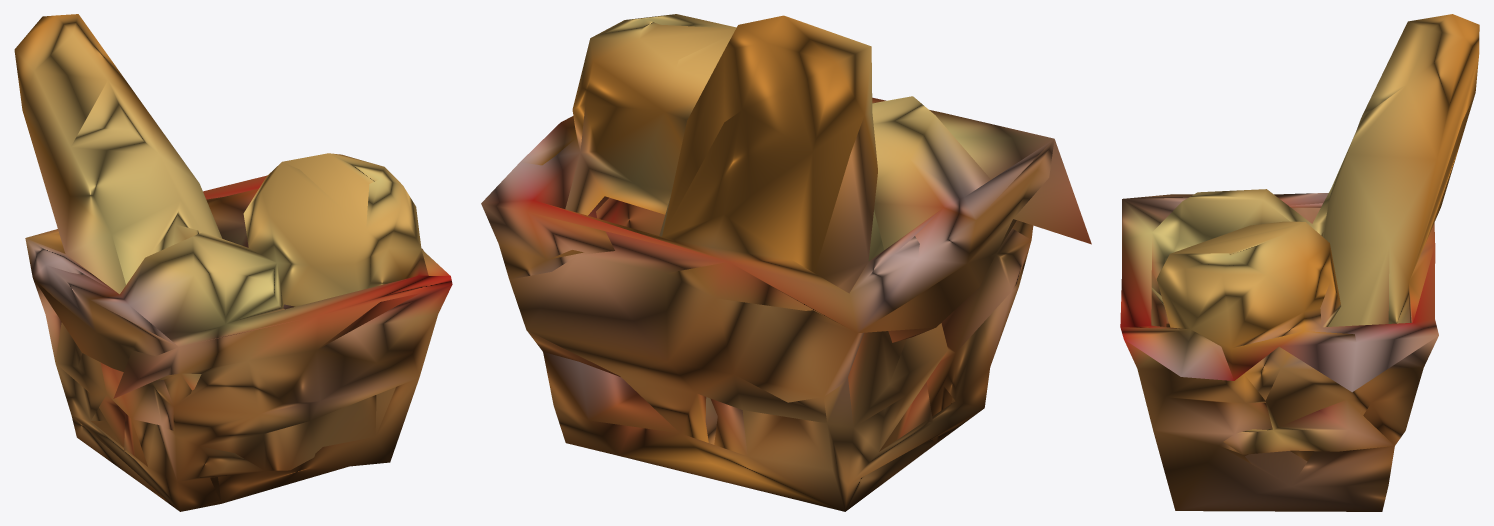
The model's file is gen3d-bread-basket-lod1.glb.
3 views of the same model, side by side, from view 1: azimuth 30°, elevation 25°; view 2: azimuth 150°, elevation 25°; view 3: azimuth 270°, elevation 25° (orthographic). The views are drawn at different scales.
Visible parts, largest first — view 1: part_0; view 2: part_0; view 3: part_0.
Part boxes in pixels (box(x1,y1,x2,y2)): part_0: box(14, 14, 452, 511); part_0: box(481, 14, 1091, 511); part_0: box(1120, 14, 1479, 511).
Bounding box in the file's own units: 0.9184 × 1 × 0.81.
